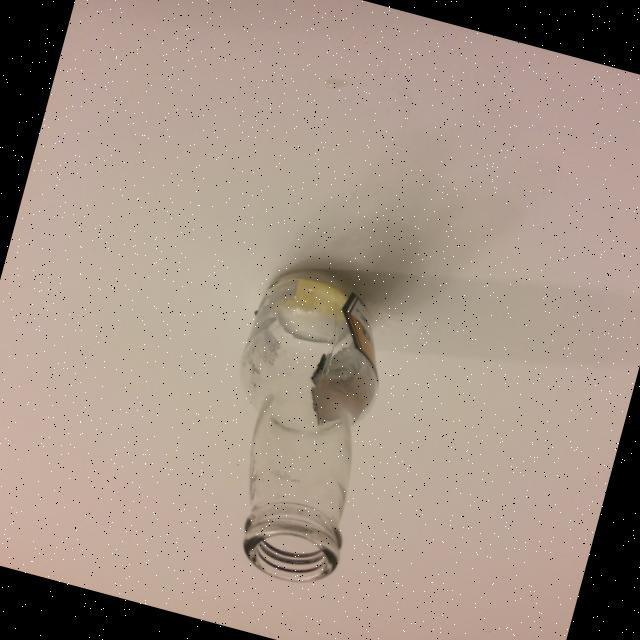glass: (186, 253, 412, 592)
